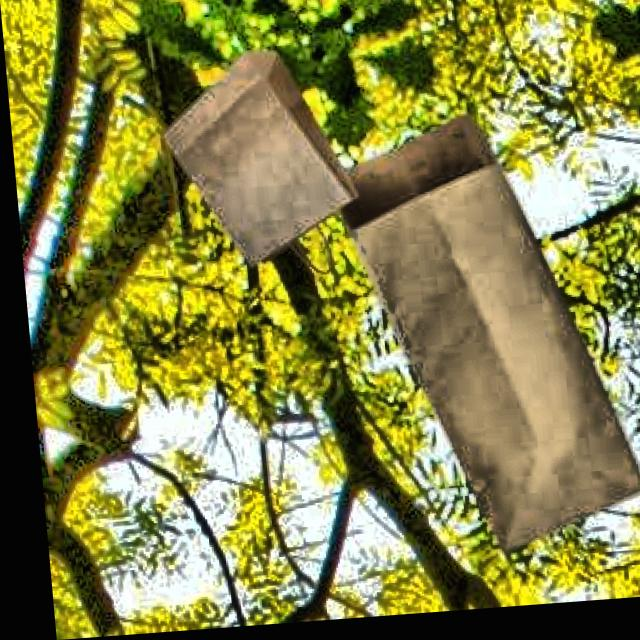Paper-bag: (305, 104, 640, 576), (145, 43, 363, 284)
